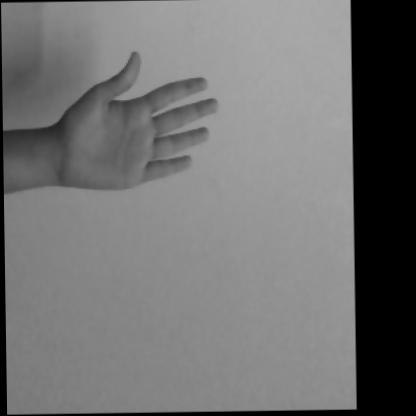palm: (9, 43, 240, 229)
